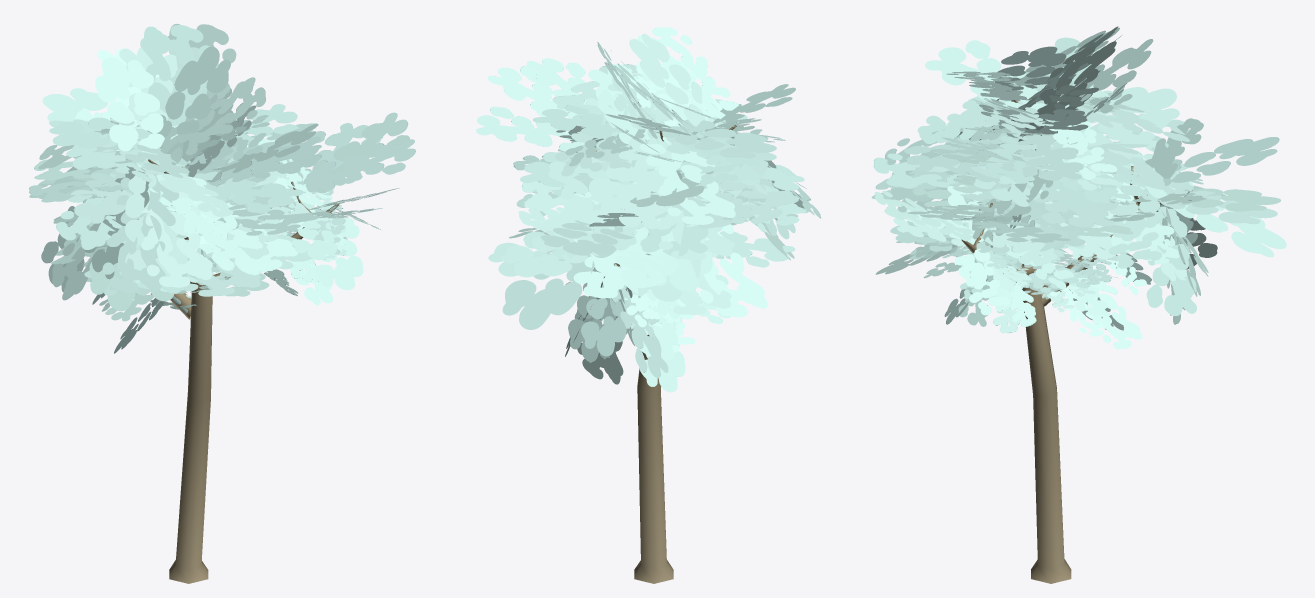
The model's file is testTree.fbx.
The picture shows the model from 3 angles, left to right: view 1: azimuth 30°, elevation 25°; view 2: azimuth 150°, elevation 25°; view 3: azimuth 270°, elevation 25°; orthographic projection. The views are drawn at different scales.
Parts seen in each view (by area): view 1: Tree.005; view 2: Tree.005; view 3: Tree.005.
Part boxes in pixels (left/top/right/bottom): Tree.005: left=29, top=23, right=415, bottom=583; Tree.005: left=476, top=27, right=821, bottom=583; Tree.005: left=871, top=26, right=1286, bottom=583.
Size of the model in its own units: 723 by 689 by 993.
